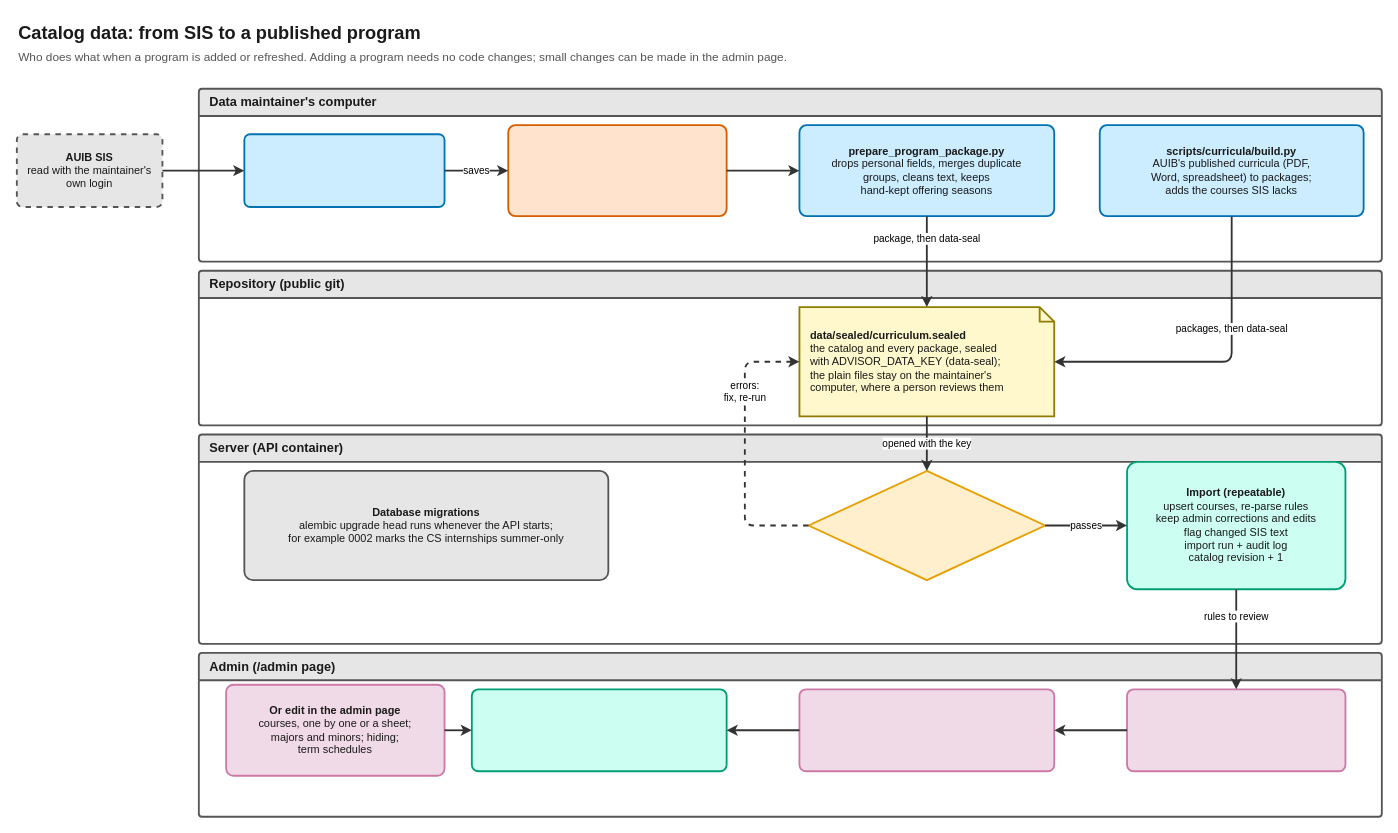
The diagram is 1398 pixels wide and 833 high, and some of its shapes have lost their labels. Each missing label, with the centre of its shape:
"Approve, or correct in the rule language, with a note" belongs at (x=926, y=730).
"Review queue each rule beside its SIS sentence" belongs at (x=1236, y=730).
"Saved audit log + revision bump; plans use it at once" belongs at (x=598, y=730).
"SIS scraper Playwright, read-only browsing" belongs at (x=344, y=170).
"sis_data/ raw output private: browser session and personal progress; git-ignored" belongs at (x=617, y=170).
"Validate errors block the import; warnings block publishing" belongs at (x=926, y=525).
